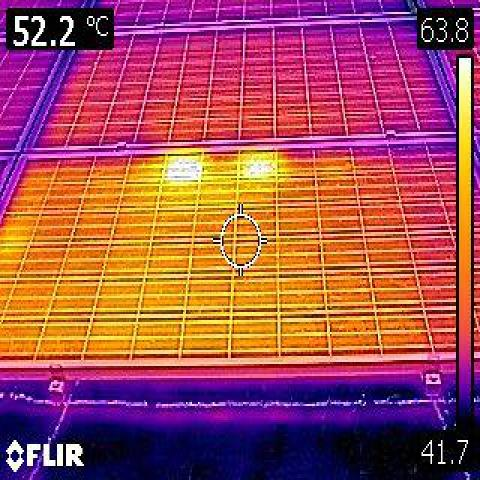fault: (167, 156, 198, 183), (240, 152, 271, 177)
